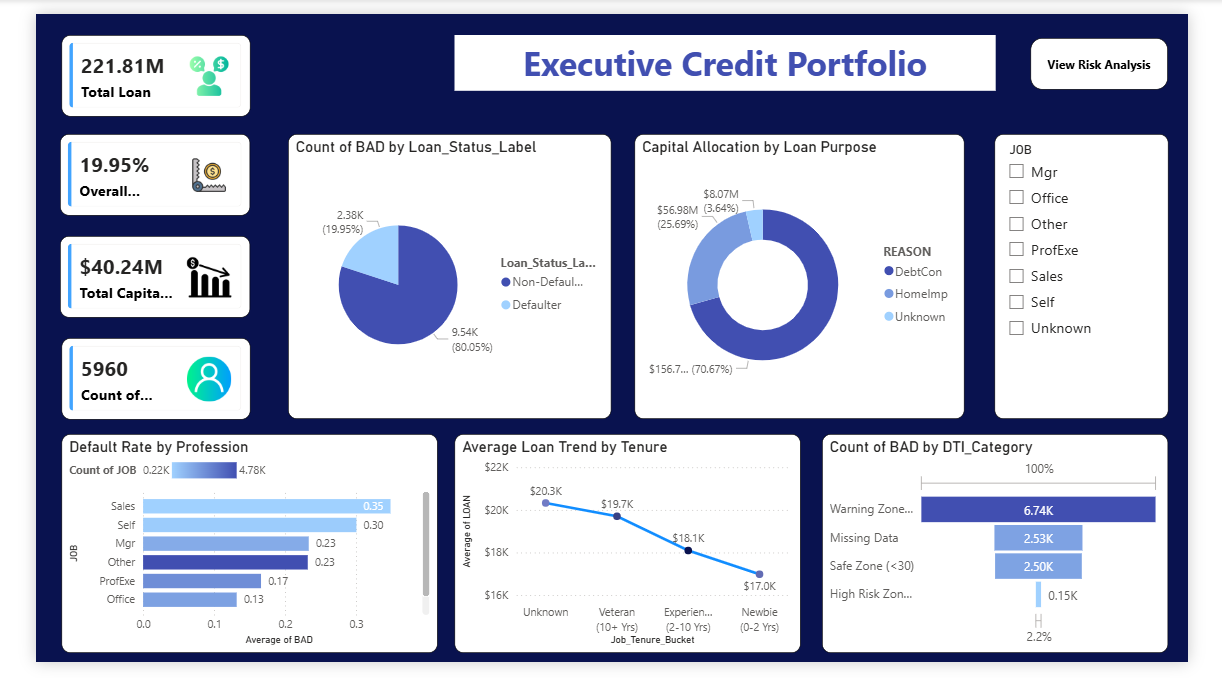

This screenshot's page, from the dashboard's own definition file:
{"tool":"powerbi","page":{"name":"Page 1","canvas":[1280,720],"ordinal":0},"visuals":[{"type":"cardVisual","fields":{"Data":["Sum(Query1.LOAN)"]},"box":[28.6,23.9,210,90.7],"z":0},{"type":"cardVisual","fields":{"Data":["Query1.Count of Applicants"]},"box":[28.6,359.5,210,90.7],"z":1000},{"type":"cardVisual","fields":{"Data":["Query1.Total Loss"]},"box":[27,246.5,211.6,90.7],"z":2000},{"type":"cardVisual","fields":{"Data":["Avg(Query1.BAD)"]},"box":[27,133.6,211.6,90.7],"z":3000},{"type":"donutChart","title":"Capital Allocation by Loan Purpose","fields":{"Category":["Query1.REASON"],"Y":["Sum(Query1.LOAN)"]},"box":[665,133.3,366.7,316.7],"z":4000},{"type":"clusteredBarChart","title":"Default Rate by Profession","fields":{"Category":["Query1.JOB"],"Y":["Avg(Query1.BAD)"]},"box":[28.6,466,418.3,243.4],"z":5000},{"type":"pieChart","fields":{"Category":["Query1.Loan_Status_Label"],"Y":["CountNonNull(Query1.BAD)"]},"box":[279.9,133.6,359.5,316.5],"z":6000},{"type":"funnel","fields":{"Category":["Query1.DTI_Category"],"Y":["CountNonNull(Query1.BAD)"]},"box":[873.2,466,384.9,243.4],"z":7000},{"type":"lineChart","title":"Average Loan Trend by Tenure","fields":{"Category":["Query1.Job_Tenure_Bucket"],"Y":["Avg(Query1.LOAN)"]},"box":[464.5,466,384.9,243.4],"z":8000},{"type":"slicer","fields":{"Values":["Query1.JOB"]},"box":[1065,133.3,193.3,316.7],"z":9000},{"type":"textbox","box":[464.5,23.9,601.3,62],"z":10000},{"type":"actionButton","box":[1105.5,27,152.7,57.3],"z":10001}]}

Visuals, with their boxes in screenshot pixels (x1, y1, x2, y2), scaled from the page's 1280x720 canvas onto the 1222x678 screenshot:
cardVisual - Sum(Query1.LOAN): pyautogui.locateOnScreen(27, 23, 228, 108)
cardVisual - Query1.Count of Applicants: pyautogui.locateOnScreen(27, 339, 228, 424)
cardVisual - Query1.Total Loss: pyautogui.locateOnScreen(26, 232, 228, 318)
cardVisual - Avg(Query1.BAD): pyautogui.locateOnScreen(26, 126, 228, 211)
"Capital Allocation by Loan Purpose" donutChart: pyautogui.locateOnScreen(635, 126, 985, 424)
"Default Rate by Profession" clusteredBarChart: pyautogui.locateOnScreen(27, 439, 427, 668)
pieChart - Query1.Loan_Status_Label x CountNonNull(Query1.BAD): pyautogui.locateOnScreen(267, 126, 610, 424)
funnel - Query1.DTI_Category x CountNonNull(Query1.BAD): pyautogui.locateOnScreen(834, 439, 1201, 668)
"Average Loan Trend by Tenure" lineChart: pyautogui.locateOnScreen(443, 439, 811, 668)
slicer - Query1.JOB: pyautogui.locateOnScreen(1017, 126, 1201, 424)
textbox: pyautogui.locateOnScreen(443, 23, 1018, 81)
actionButton: pyautogui.locateOnScreen(1055, 25, 1201, 79)
